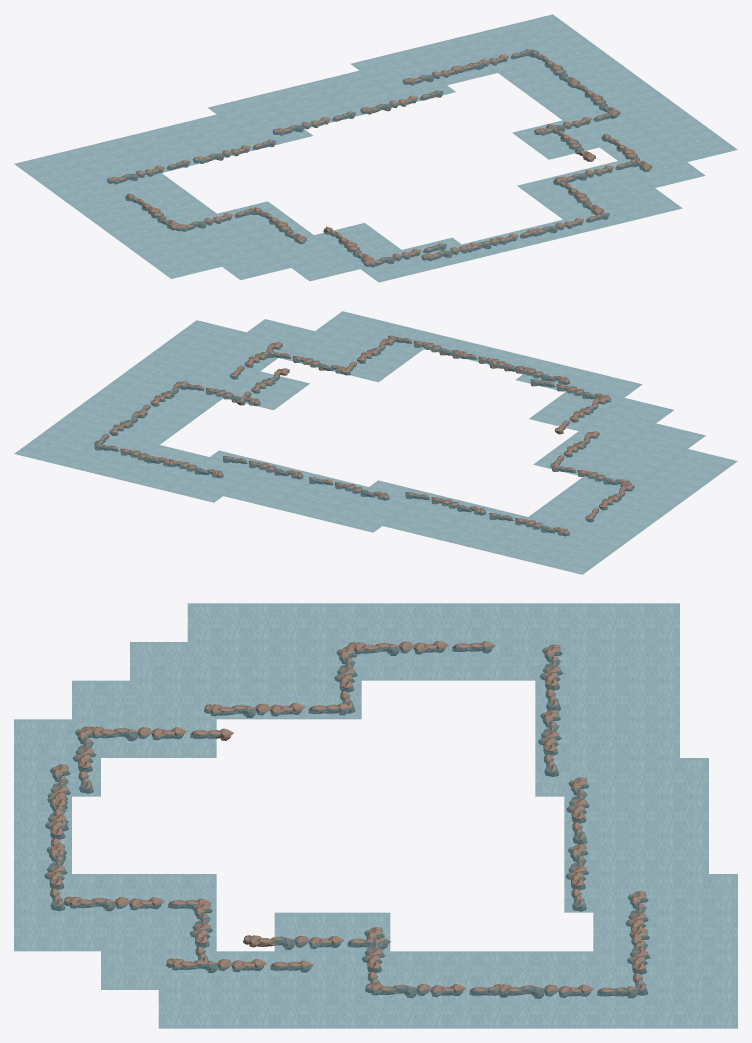
The model's file is nieyue_shui.fbx.
3 views of the same model, one above another, from view 1: azimuth 30°, elevation 25°; view 2: azimuth 150°, elevation 25°; view 3: azimuth 270°, elevation 25° (orthographic). The views are drawn at different scales.
Parts seen in each view (by area): view 1: bing_1.003, bing_1.013, bing_1.011, bing_1.012, bing_1.010, bing_1.005, bing_1.004, bing_1.009, bing_1.007, bing_1.014, bing_1.008, bing_1.022 (+4 smaller); view 2: bing_1.003, bing_1.010, bing_1.011, bing_1.012, bing_1.013, bing_1.007, bing_1.005, bing_1.009, bing_1.004, bing_1.015, bing_1.008, bing_1.006; view 3: bing_1.003, bing_1.022, bing_1.019, bing_1.023, bing_1.021, bing_1.016, bing_1.018, bing_1.020, bing_1.017, bing_1.011, bing_1.013, bing_1.012 (+10 smaller).
Part boxes in pixels (left/top/right/bottom): bing_1.003: left=14, top=14, right=737, bottom=282; bing_1.013: left=360, top=90, right=443, bottom=114; bing_1.011: left=193, top=139, right=275, bottom=163; bing_1.012: left=273, top=111, right=355, bottom=135; bing_1.010: left=107, top=160, right=190, bottom=183; bing_1.005: left=363, top=243, right=446, bottom=266; bing_1.004: left=527, top=212, right=609, bottom=236; bing_1.009: left=176, top=207, right=254, bottom=231; bing_1.007: left=557, top=159, right=636, bottom=182; bing_1.014: left=403, top=61, right=483, bottom=84; bing_1.008: left=534, top=111, right=614, bottom=135; bing_1.022: left=253, top=207, right=306, bottom=243; bing_1.003: left=14, top=311, right=737, bottom=574; bing_1.010: left=489, top=513, right=569, bottom=536; bing_1.011: left=405, top=492, right=485, bottom=515; bing_1.012: left=309, top=477, right=389, bottom=500; bing_1.013: left=223, top=456, right=303, bottom=479; bing_1.007: left=268, top=351, right=345, bottom=374; bing_1.005: left=531, top=379, right=610, bottom=402; bing_1.009: left=552, top=465, right=631, bottom=486; bing_1.004: left=388, top=336, right=467, bottom=358; bing_1.015: left=94, top=443, right=173, bottom=466; bing_1.008: left=180, top=383, right=260, bottom=406; bing_1.006: left=489, top=361, right=569, bottom=384; bing_1.003: left=14, top=603, right=737, bottom=1028; bing_1.022: left=204, top=703, right=351, bottom=717; bing_1.019: left=166, top=958, right=313, bottom=972; bing_1.023: left=348, top=641, right=495, bottom=655; bing_1.021: left=88, top=726, right=233, bottom=740; bing_1.016: left=494, top=984, right=638, bottom=998; bing_1.018: left=243, top=935, right=390, bottom=949; bing_1.020: left=64, top=896, right=211, bottom=910; bing_1.017: left=365, top=983, right=507, bottom=997; bing_1.011: left=538, top=709, right=561, bottom=776; bing_1.013: left=566, top=844, right=588, bottom=911; bing_1.012: left=566, top=777, right=589, bottom=844.
Bounding box in the file's own units: 34773 × 459 × 25000.
